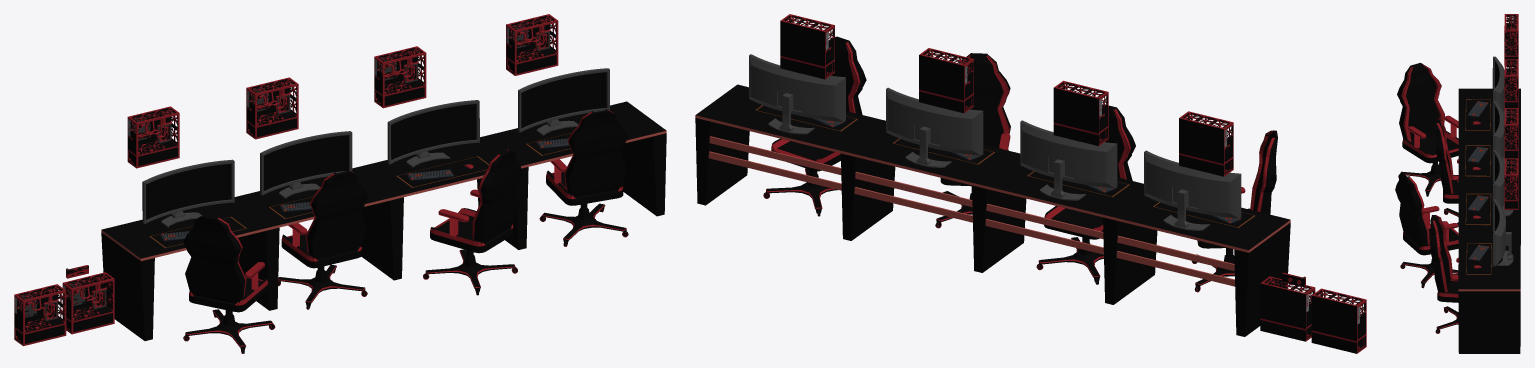
Rendered from VVIPpc3.fbx.
3 views of the same model, side by side, from view 1: azimuth 30°, elevation 25°; view 2: azimuth 150°, elevation 25°; view 3: azimuth 270°, elevation 25° (orthographic). The views are drawn at different scales.
Parts seen in each view (by area): view 1: Monitor 4, IMPORTANTseatCHAIR, IMPORTANTseatCHAIR.003, IMPORTANTseatCHAIR.001, IMPORTANTseatCHAIR.002, SystemUnit 2, SystemUnit 1, SystemUnit 3, SystemUnit without GPU pipe, SystemUnit 4, SystemUnit with GPU pipe; view 2: Monitor 4, IMPORTANTseatCHAIR.003, IMPORTANTseatCHAIR.002, IMPORTANTseatCHAIR.001, SystemUnit 2, SystemUnit without GPU pipe, SystemUnit 3, SystemUnit 4, SystemUnit 1, SystemUnit with GPU pipe, IMPORTANTseatCHAIR; view 3: Monitor 4, IMPORTANTseatCHAIR, IMPORTANTseatCHAIR.002, IMPORTANTseatCHAIR.003, IMPORTANTseatCHAIR.001, SystemUnit 4, SystemUnit 3, SystemUnit 2, SystemUnit 1.
Boxes of the visible parts, box(x1,y1,x2,y2) form: Monitor 4: box(101, 68, 666, 340); IMPORTANTseatCHAIR: box(183, 214, 275, 353); IMPORTANTseatCHAIR.003: box(539, 109, 628, 246); IMPORTANTseatCHAIR.001: box(278, 169, 368, 309); IMPORTANTseatCHAIR.002: box(423, 148, 522, 295); SystemUnit 2: box(246, 77, 298, 139); SystemUnit 1: box(127, 106, 179, 168); SystemUnit 3: box(374, 46, 426, 108); SystemUnit without GPU pipe: box(14, 284, 66, 346); SystemUnit 4: box(506, 14, 558, 75); SystemUnit with GPU pipe: box(62, 272, 114, 334); Monitor 4: box(695, 54, 1290, 336); IMPORTANTseatCHAIR.003: box(763, 36, 866, 216); IMPORTANTseatCHAIR.002: box(935, 53, 1010, 228); IMPORTANTseatCHAIR.001: box(1036, 104, 1135, 284); SystemUnit 2: box(1053, 80, 1108, 146); SystemUnit without GPU pipe: box(1311, 288, 1366, 353); SystemUnit 3: box(919, 48, 973, 113); SystemUnit 4: box(780, 14, 834, 79); SystemUnit 1: box(1179, 111, 1233, 176); SystemUnit with GPU pipe: box(1260, 276, 1315, 341); IMPORTANTseatCHAIR: box(1191, 130, 1277, 292); Monitor 4: box(1458, 56, 1520, 353); IMPORTANTseatCHAIR: box(1397, 63, 1458, 196); IMPORTANTseatCHAIR.002: box(1395, 172, 1458, 288); IMPORTANTseatCHAIR.003: box(1430, 215, 1458, 333); IMPORTANTseatCHAIR.001: box(1434, 117, 1458, 228); SystemUnit 4: box(1504, 158, 1518, 209); SystemUnit 3: box(1504, 108, 1518, 159); SystemUnit 2: box(1504, 59, 1518, 110); SystemUnit 1: box(1504, 14, 1518, 65).
Bounding box in the file's own units: 4490 × 1322 × 1007.
